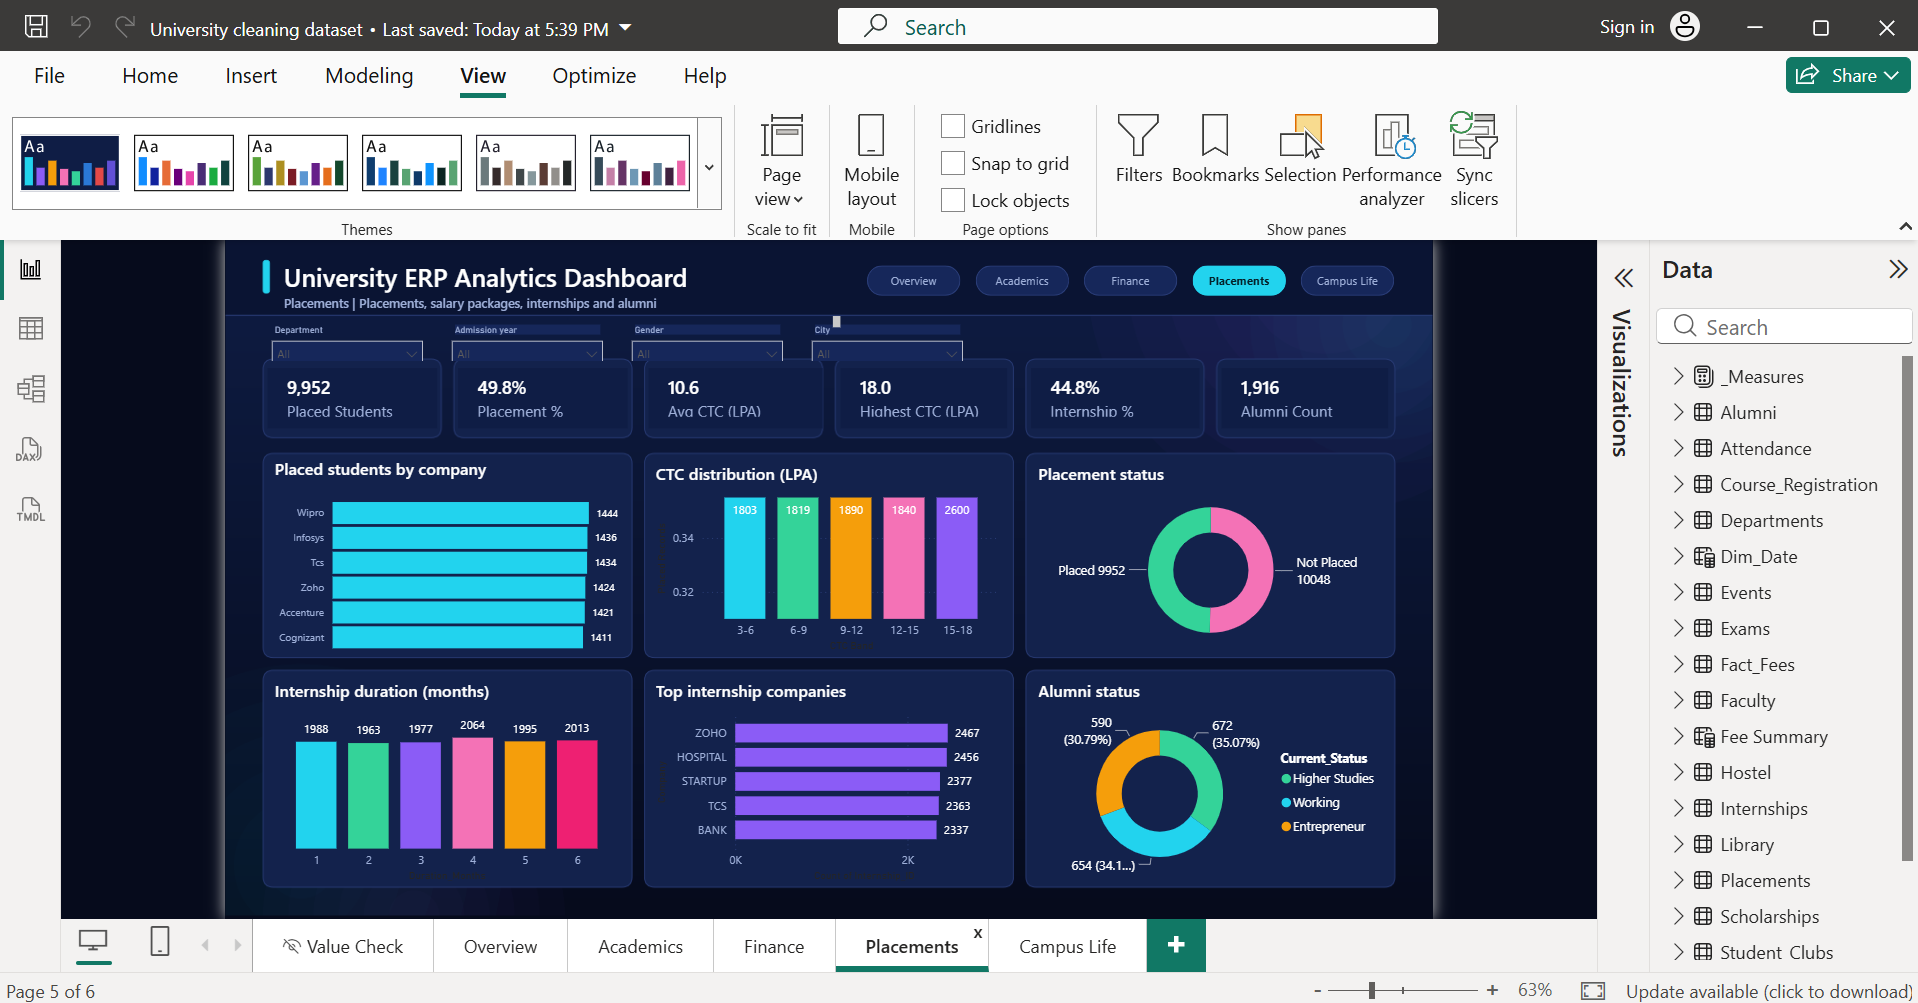

Layout of this report page (visuals, bound fields, positions):
{"tool":"powerbi","page":{"name":"Placements","canvas":[1280,720],"ordinal":4},"visuals":[{"type":"textbox","title":"University ERP Analytics Dashboard","box":[57,20,600,40],"z":0},{"type":"slicer","fields":{"Values":["Students.Admission_Year"]},"box":[231,84,180,44],"z":1000},{"type":"slicer","fields":{"Values":["Students.Gender"]},"box":[421,84,180,44],"z":2000},{"type":"slicer","fields":{"Values":["Students.City"]},"box":[612,84,180,44],"z":3000},{"type":"clusteredColumnChart","title":"CTC distribution (LPA)","fields":{"Category":["Placements.CTC Band"],"Y":["_Measures.Placed Records"]},"box":[452,236,375,205],"z":4000},{"type":"donutChart","title":"Placement status","fields":{"Category":["Placements.Status"],"Y":["CountNonNull(Placements.Placement_ID)"]},"box":[857,236,375.4,205.2],"z":5000},{"type":"clusteredColumnChart","title":"Internship duration (months)","fields":{"Category":["Internships.Duration_Months"],"Y":["CountNonNull(Internships.Internship_ID)"]},"box":[48,466,375.4,218],"z":6000},{"type":"clusteredBarChart","title":"Top internship companies","fields":{"Category":["Internships.Company"],"Y":["CountNonNull(Internships.Internship_ID)"]},"box":[452,466,375,218],"z":7000},{"type":"donutChart","title":"Alumni status","fields":{"Category":["Alumni.Current_Status"],"Y":["_Measures.Alumni Count"]},"box":[857,466,375,218],"z":8000},{"type":"textbox","title":"Placements | Placements, salary packages, internships and alumni","box":[57,58,600,40],"z":9000},{"type":"pageNavigator","box":[680,27,560,32],"z":10000},{"type":"slicer","fields":{"Values":["Departments.Department_Name"]},"box":[40,84,180,44],"z":11000},{"type":"clusteredBarChart","title":"Placed students by company","fields":{"Category":["Placements.Company"],"Y":["_Measures.Placed by Company"]},"box":[47.7,230.6,373.8,217.9],"z":12000},{"type":"cardVisual","fields":{"Data":["_Measures.Placed Students (Text)"]},"box":[39.8,130.4,190.9,74.8],"z":13000},{"type":"cardVisual","fields":{"Data":["_Measures.Placement %"]},"box":[241.8,130.4,190.9,74.8],"z":14000},{"type":"cardVisual","fields":{"Data":["_Measures.Avg CTC (LPA)"]},"box":[443.8,130.4,195.6,74.8],"z":15000},{"type":"cardVisual","fields":{"Data":["_Measures.Highest CTC (LPA)"]},"box":[647.4,130.4,187.7,74.8],"z":16000},{"type":"cardVisual","fields":{"Data":["_Measures.Internship %"]},"box":[849.4,130.4,189.3,74.8],"z":17000},{"type":"cardVisual","fields":{"Data":["_Measures.Alumni Count (Text)"]},"box":[1051.4,130.4,187.7,74.8],"z":18000}]}

Visuals, with their boxes on the page's 1280x720 design canvas (x1, y1, x2, y2). These are canvas units, not pixel positions in the 1918x1003 screenshot, which may show the page scaled, cropped or inside an application window:
"University ERP Analytics Dashboard" textbox: [x1=57, y1=20, x2=657, y2=60]
slicer - Students.Admission_Year: [x1=231, y1=84, x2=411, y2=128]
slicer - Students.Gender: [x1=421, y1=84, x2=601, y2=128]
slicer - Students.City: [x1=612, y1=84, x2=792, y2=128]
"CTC distribution (LPA)" clusteredColumnChart: [x1=452, y1=236, x2=827, y2=441]
"Placement status" donutChart: [x1=857, y1=236, x2=1232, y2=441]
"Internship duration (months)" clusteredColumnChart: [x1=48, y1=466, x2=423, y2=684]
"Top internship companies" clusteredBarChart: [x1=452, y1=466, x2=827, y2=684]
"Alumni status" donutChart: [x1=857, y1=466, x2=1232, y2=684]
"Placements | Placements, salary packages, internships and alumni" textbox: [x1=57, y1=58, x2=657, y2=98]
pageNavigator: [x1=680, y1=27, x2=1240, y2=59]
slicer - Departments.Department_Name: [x1=40, y1=84, x2=220, y2=128]
"Placed students by company" clusteredBarChart: [x1=48, y1=231, x2=422, y2=448]
cardVisual - _Measures.Placed Students (Text): [x1=40, y1=130, x2=231, y2=205]
cardVisual - _Measures.Placement %: [x1=242, y1=130, x2=433, y2=205]
cardVisual - _Measures.Avg CTC (LPA): [x1=444, y1=130, x2=639, y2=205]
cardVisual - _Measures.Highest CTC (LPA): [x1=647, y1=130, x2=835, y2=205]
cardVisual - _Measures.Internship %: [x1=849, y1=130, x2=1039, y2=205]
cardVisual - _Measures.Alumni Count (Text): [x1=1051, y1=130, x2=1239, y2=205]
